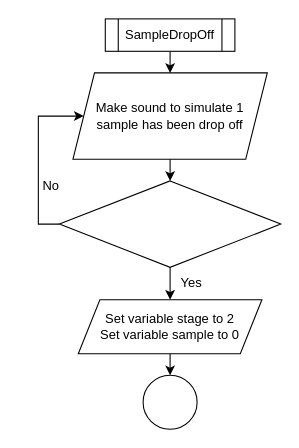
Some shapes in this 299 by 448 pixel diagram are drawn without their labels. The shapes that lost their labels are listed below. From the top down, each one's box as (x1, y1, x2, y2) in pixels, then its label:
(58, 180, 281, 267): Has it dropped off the amount of times there is samples
(142, 374, 197, 429): Return
